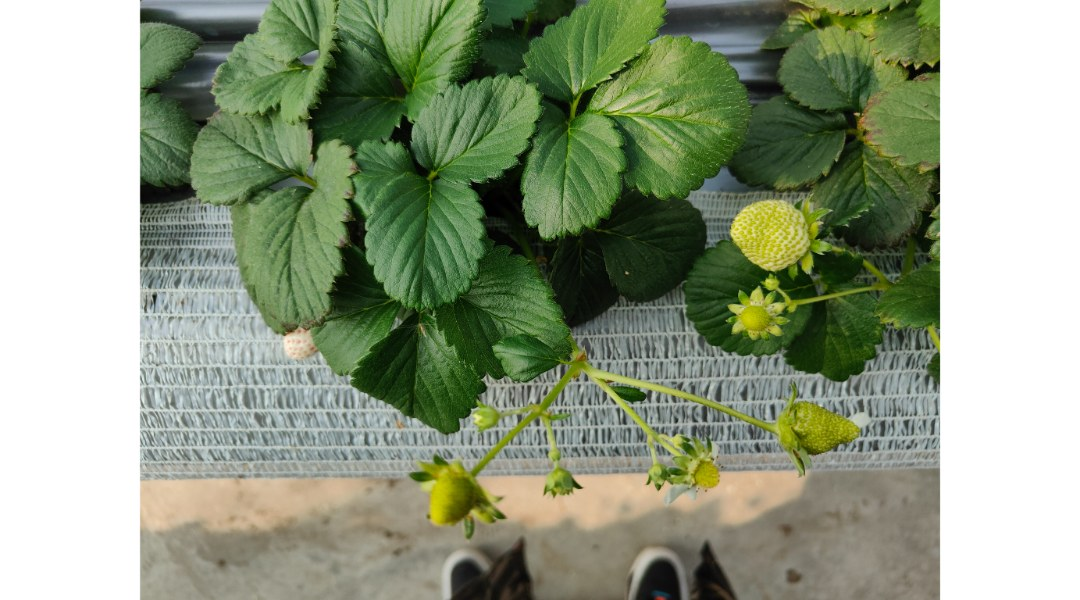berry: (404, 446, 514, 561), (768, 391, 883, 468), (731, 187, 819, 271), (719, 283, 791, 348), (668, 442, 733, 494), (539, 456, 585, 497), (464, 393, 503, 434), (634, 451, 670, 490)
strain: (601, 363, 776, 439), (474, 373, 575, 470), (617, 396, 656, 443), (540, 412, 562, 458)
